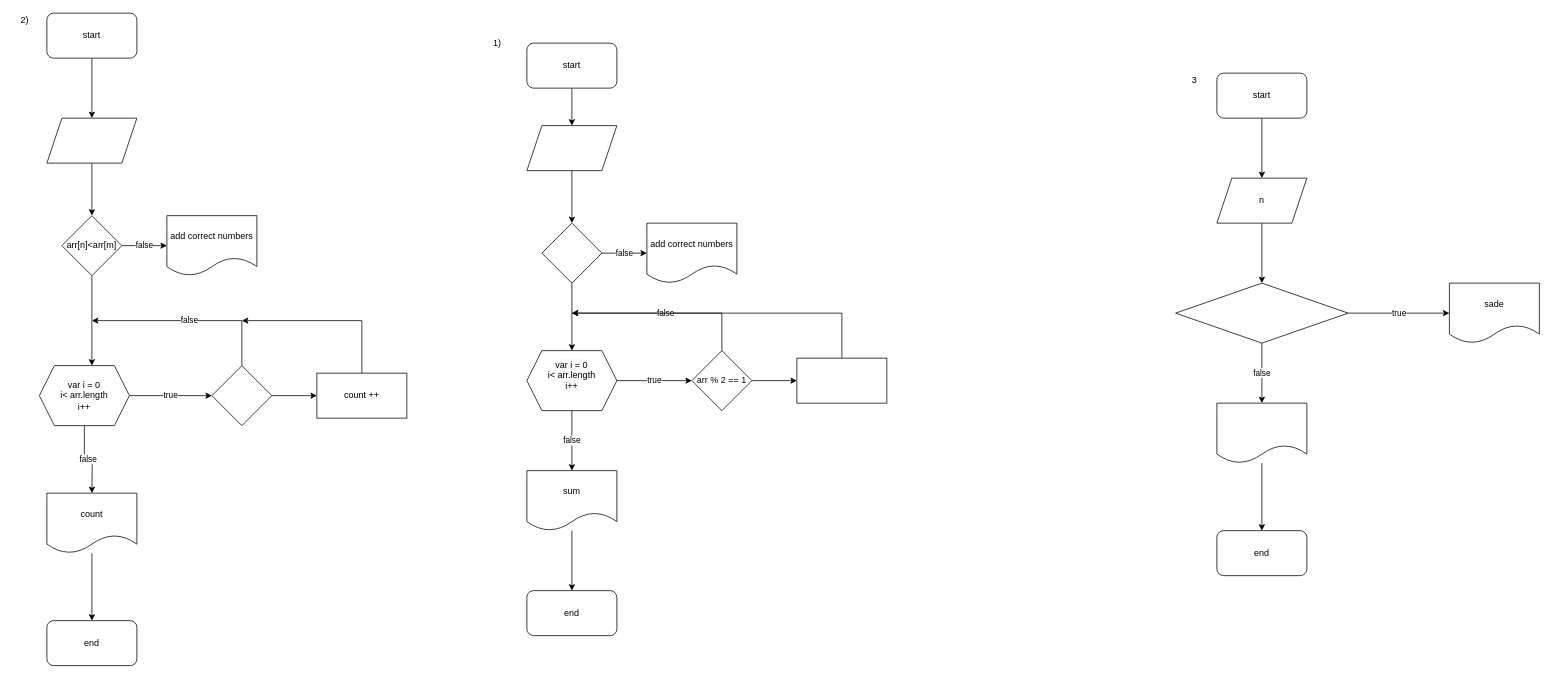
Some shapes in this 1553 by 679 pixel diagram are drawn without their labels. The box of each missing label's shape, as (x1, y1, x2, y2) in pixels:
arr count=0: (46, 117, 137, 163)
arr sum = 0: (526, 125, 617, 171)
arr%2 == 2: (211, 365, 272, 426)
arr[n]<arr[m}: (541, 222, 602, 283)
murekkeb: (1216, 402, 1307, 463)
n % 1 == 0 && n % 2 == 0: (1175, 282, 1348, 343)
sum + == arr[i]: (796, 357, 887, 403)
